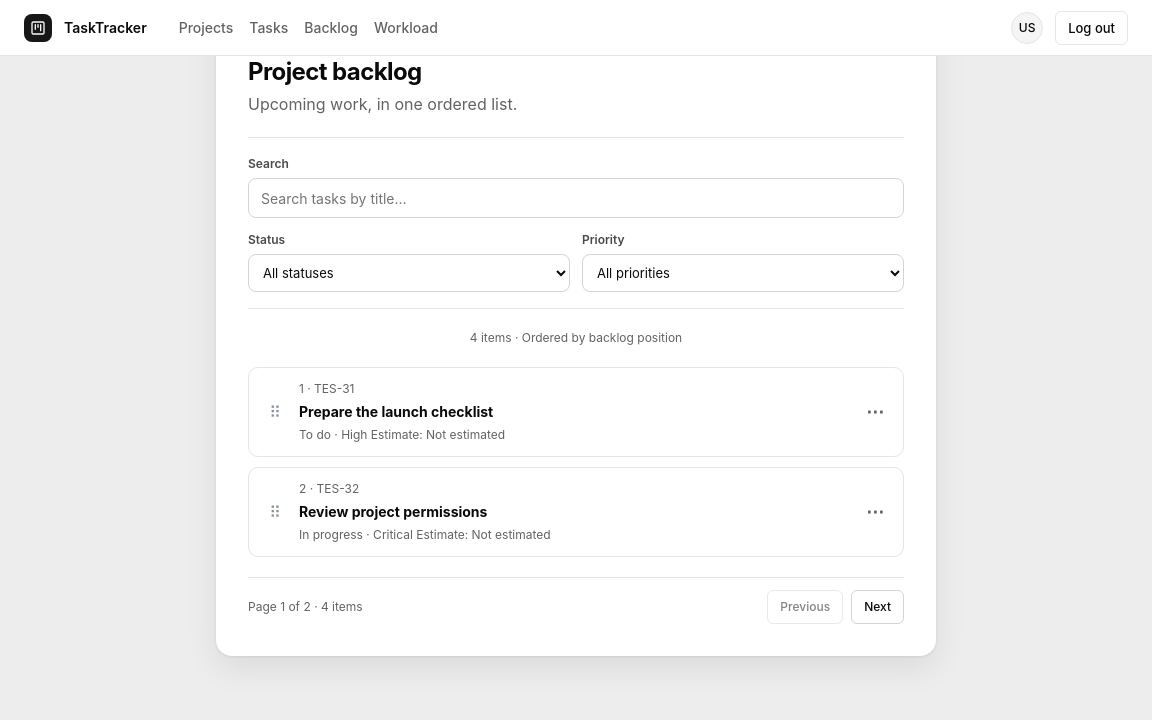
Test case: [US-23] Project Backlog Acceptance Tests › navigates between backlog pages with pagination controls
(page scrolled)
Expected: the text "1 · TES-31" is shown, x1=299 y1=381 x2=354 y2=396
Expected: the text "2 · TES-32" is shown, x1=299 y1=481 x2=359 y2=496
Click Next to navigate to Page 2
Click the button with test id "backlog-next-page-btn" at x=878, y=607, box x1=851 y1=590 x2=904 y2=624
(page scrolled)
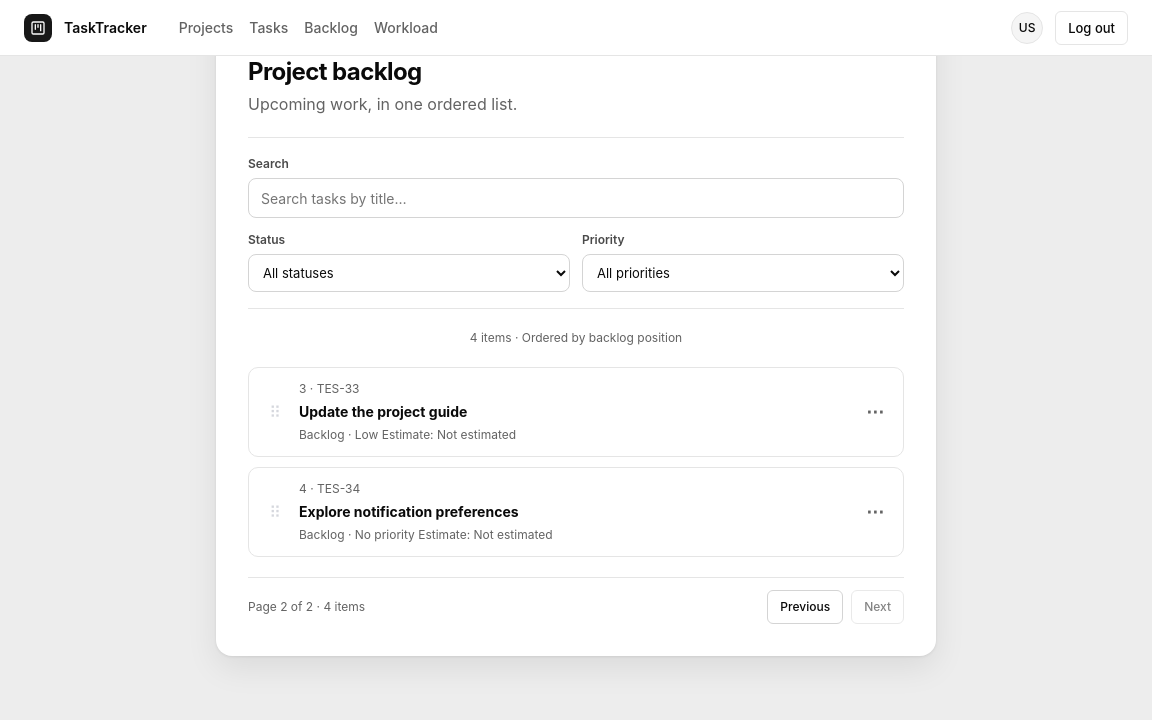
Now the text "3 · TES-33" is shown, box x1=299 y1=381 x2=360 y2=396
Now the text "4 · TES-34" is shown, box x1=299 y1=481 x2=360 y2=496
Now the text with test id "backlog-pagination-info" reads "Page 2 of 2 · 4 items", box x1=248 y1=598 x2=365 y2=616
